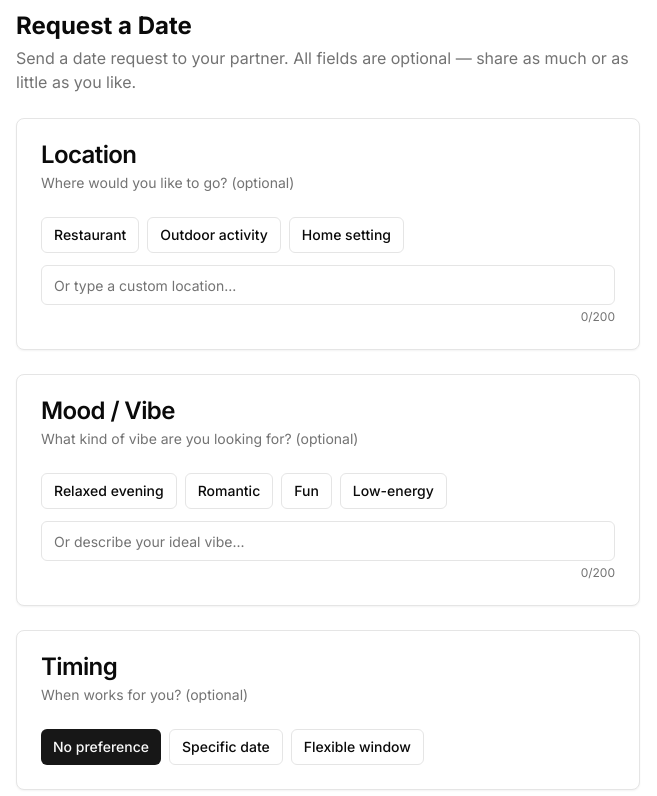
it: DateRequestPage › shows character count for location
The width and height of the screenshot is (657, 796).
Type "Park" into the field with placeholder "Or type a custom location..." at (328, 285), box [41,265,615,305]
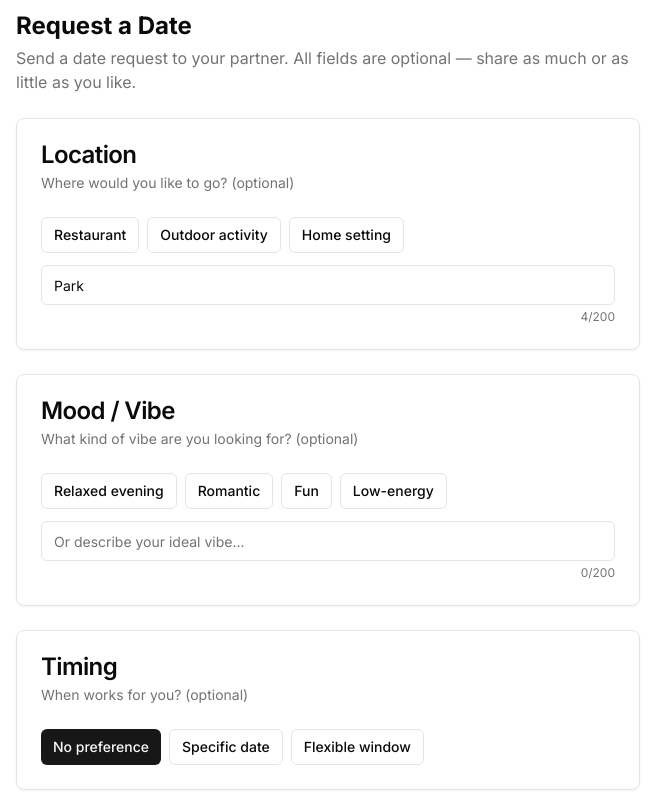
Now the text "4/200" is shown, box [580,309,615,325]
